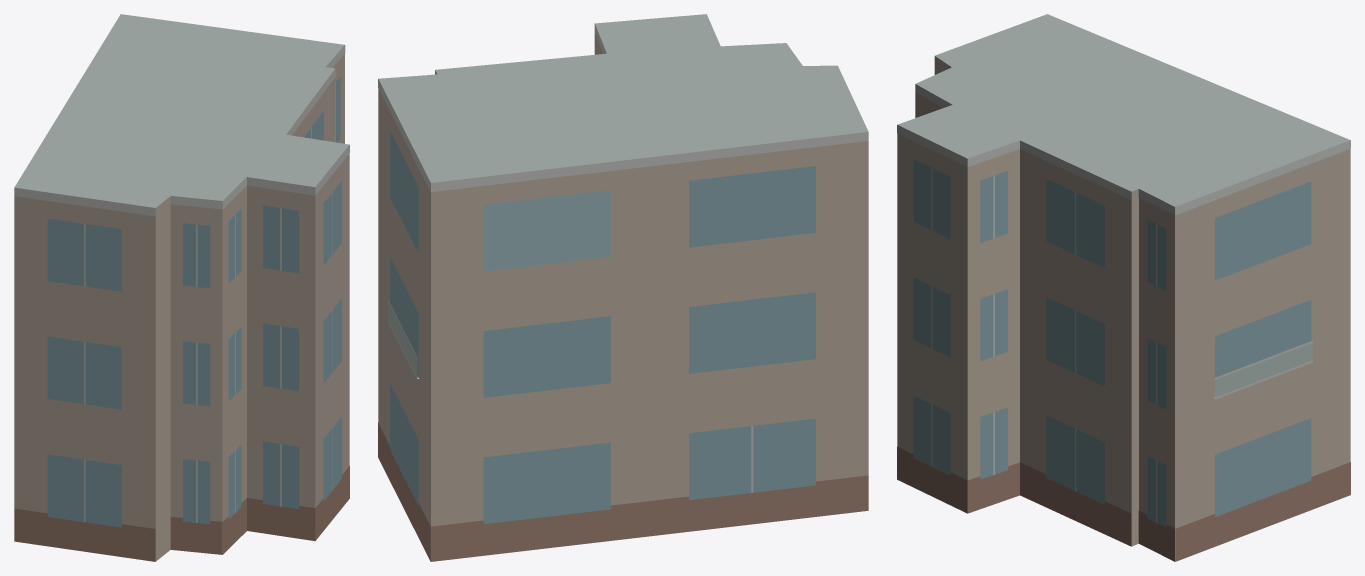
File: survey-upis-32507072.glb
3 renders of one model, left to right at view 1: azimuth 30°, elevation 25°; view 2: azimuth 150°, elevation 25°; view 3: azimuth 270°, elevation 25°, orthographic. The views are drawn at different scales.
Parts seen in each view (by area): view 1: survey-upis-32507072.tmp; view 2: survey-upis-32507072.tmp; view 3: survey-upis-32507072.tmp.
Boxes of the visible parts, x1,y1,x2,y2 form: survey-upis-32507072.tmp: (14, 14, 349, 561); survey-upis-32507072.tmp: (378, 14, 868, 561); survey-upis-32507072.tmp: (897, 14, 1350, 561).
Bounding box in the file's own units: 11.91 × 10.2 × 11.82.
